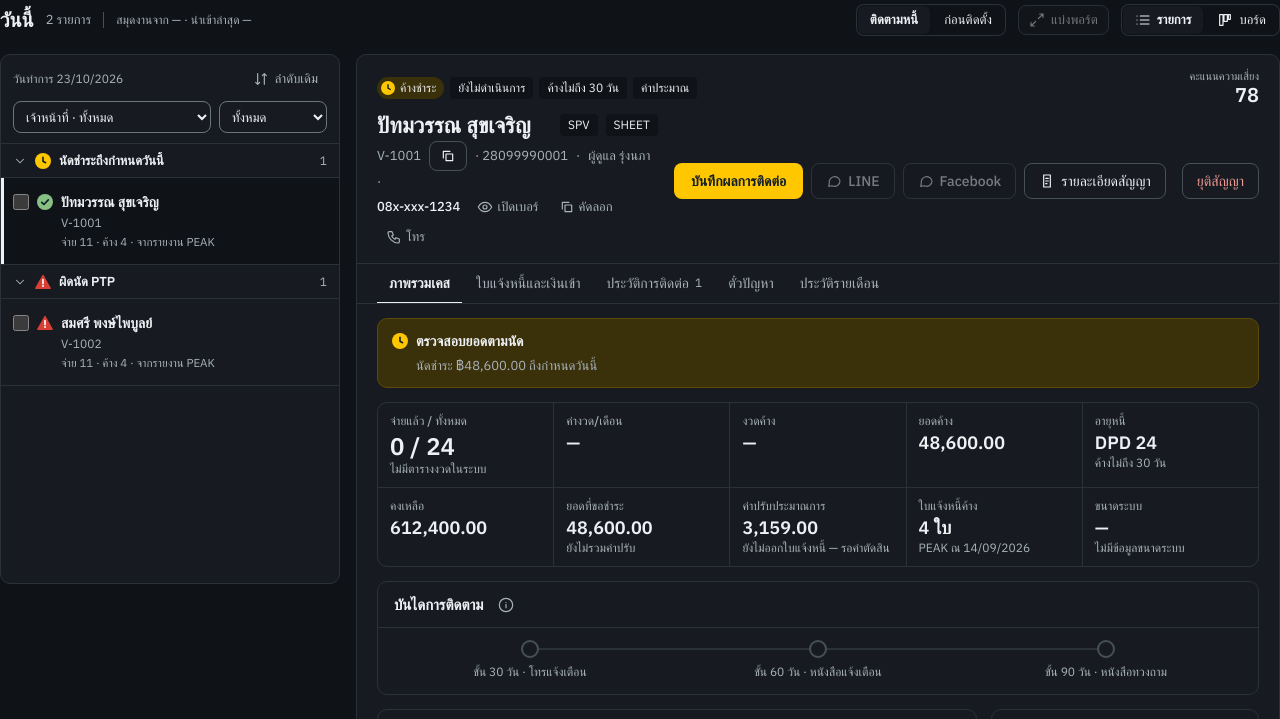
Test case: Today bulk assignment (F10) › keeps the latest officer desk when an earlier filter response arrives last
This screenshot has width=1280, height=719.
Expected: the button "ปัทมวรรณ สุขเจริญ V-1001 จ่าย 11 · ค้าง 4 · จากรายงาน PEAK" is shown, x1=37 y1=192 x2=327 y2=250
Select "รุ่งนภา ทองดี" in the dropdown named "เจ้าหน้าที่" at point(112, 117), box x1=13 y1=101 x2=211 y2=133
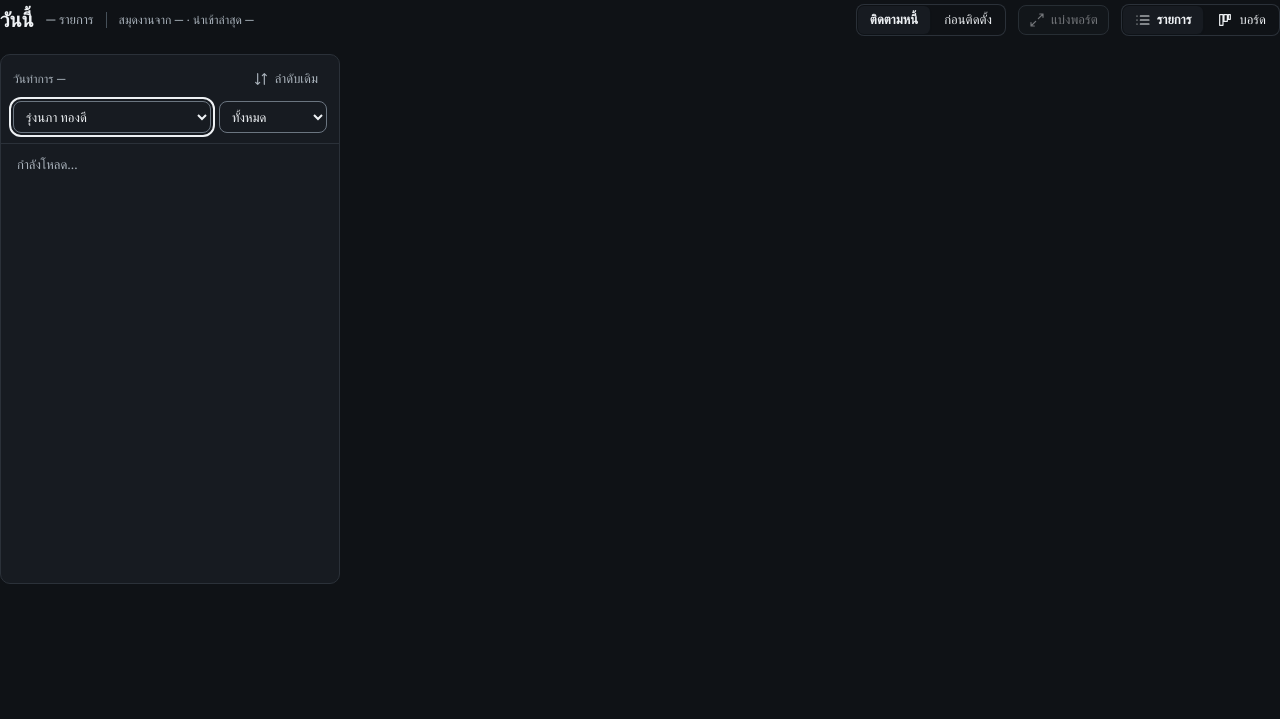
Select "สมชาย ใจกล้า" in the dropdown named "เจ้าหน้าที่" at point(112, 117), box x1=13 y1=101 x2=211 y2=133
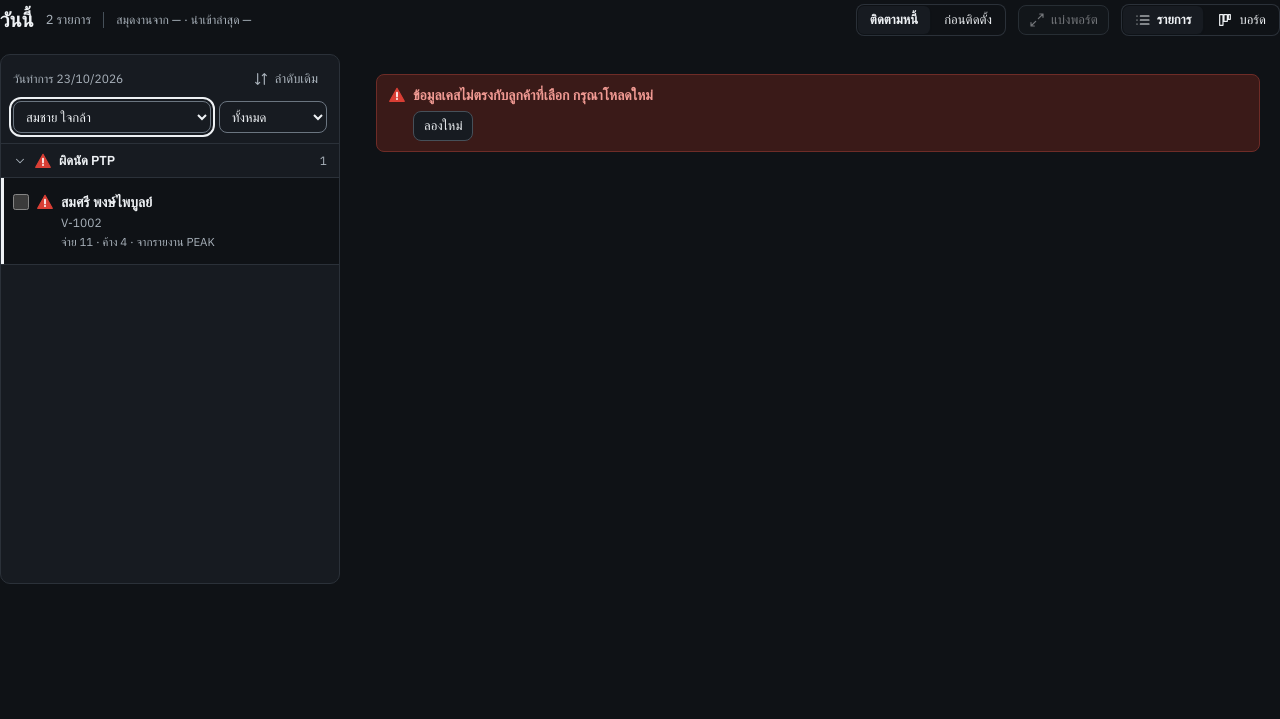
Expected: the button "ปัทมวรรณ" is not shown
Expected: the button "สมศรี พงษ์ไพบูลย์ V-1002 จ่าย 11 · ค้าง 4 · จากรายงาน PEAK" is shown, x1=37 y1=192 x2=327 y2=250
